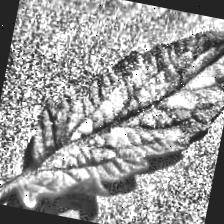leaf mold: (16, 0, 224, 224)
